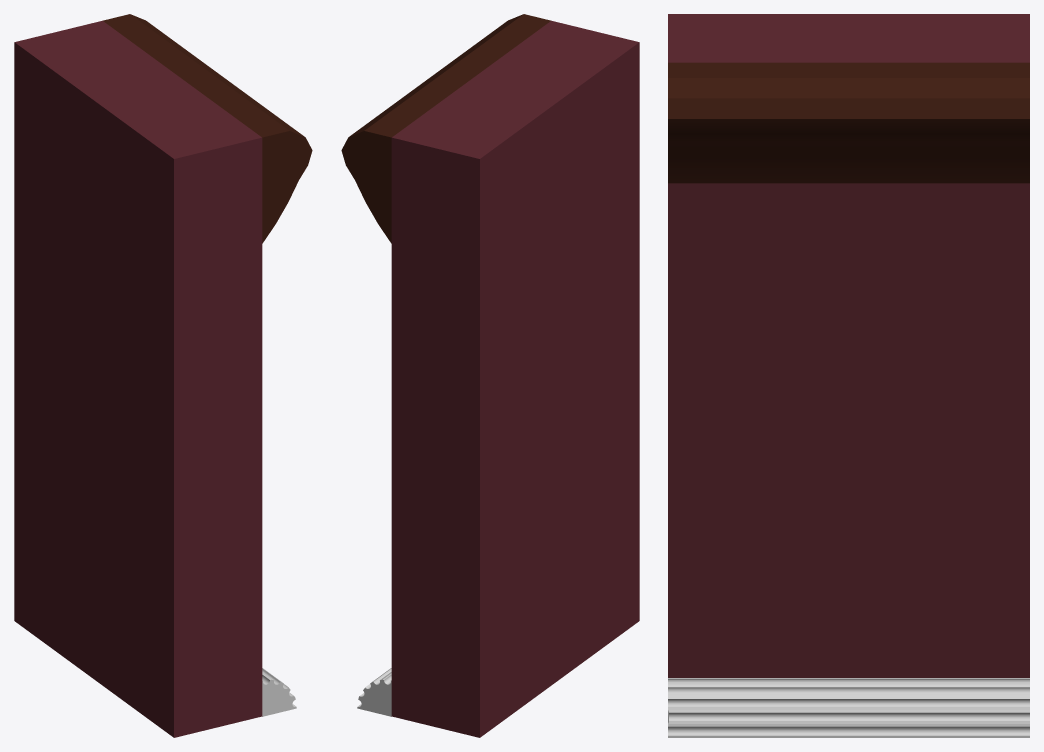
The model's file is wand.glb.
3 views of the same model, side by side, from view 1: azimuth 30°, elevation 25°; view 2: azimuth 150°, elevation 25°; view 3: azimuth 270°, elevation 25° (orthographic). The views are drawn at different scales.
Visible parts, largest first — view 1: Wand; view 2: Wand; view 3: Wand.
Part boxes in pixels (x1,y1,x2,y2): Wand: (14, 14, 312, 737); Wand: (341, 14, 639, 737); Wand: (668, 14, 1029, 737).
Size of the model in its own units: 1 by 4 by 2.
